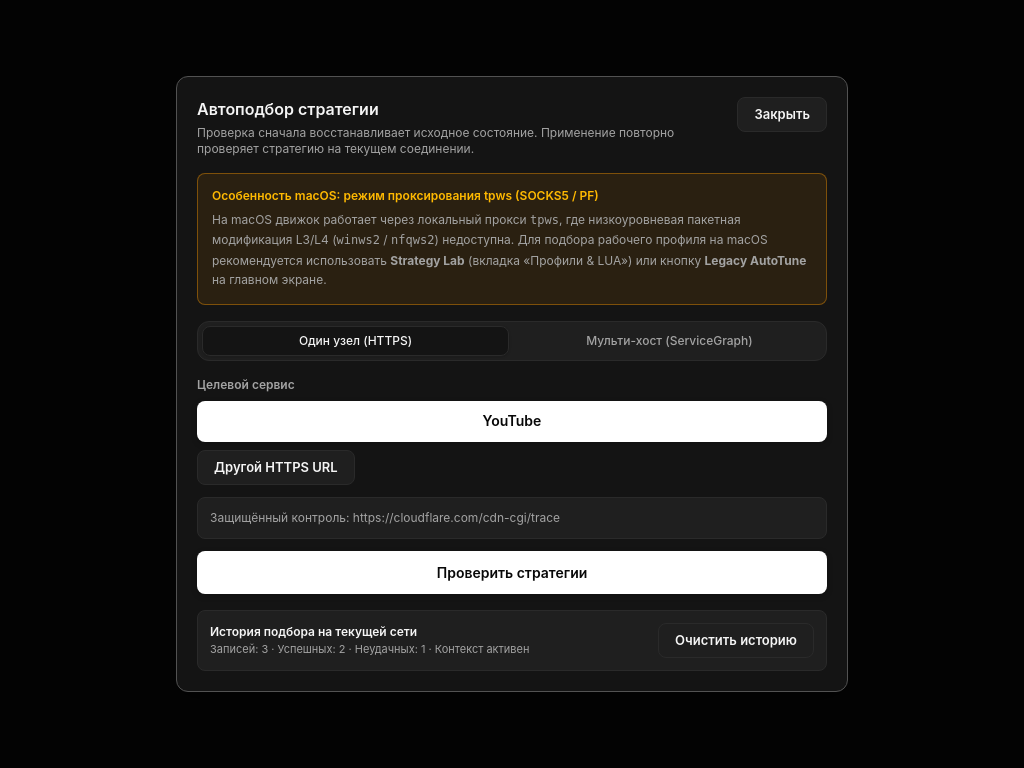
Test: primary AutoTune vNext modal › displays History Ledger stats, clears history, and renders macOS tpws guidance banner
The image size is (1024, 768).
Check: the text "Особенность macOS: режим проксирования tpws (SOCKS5 / PF)" is shown, box [212,188,599,203]
Check: the text "Strategy Lab" is shown, box [390,253,465,268]
Step 1. Click the button "Очистить историю" → click(736, 640), box [658,623,814,658]
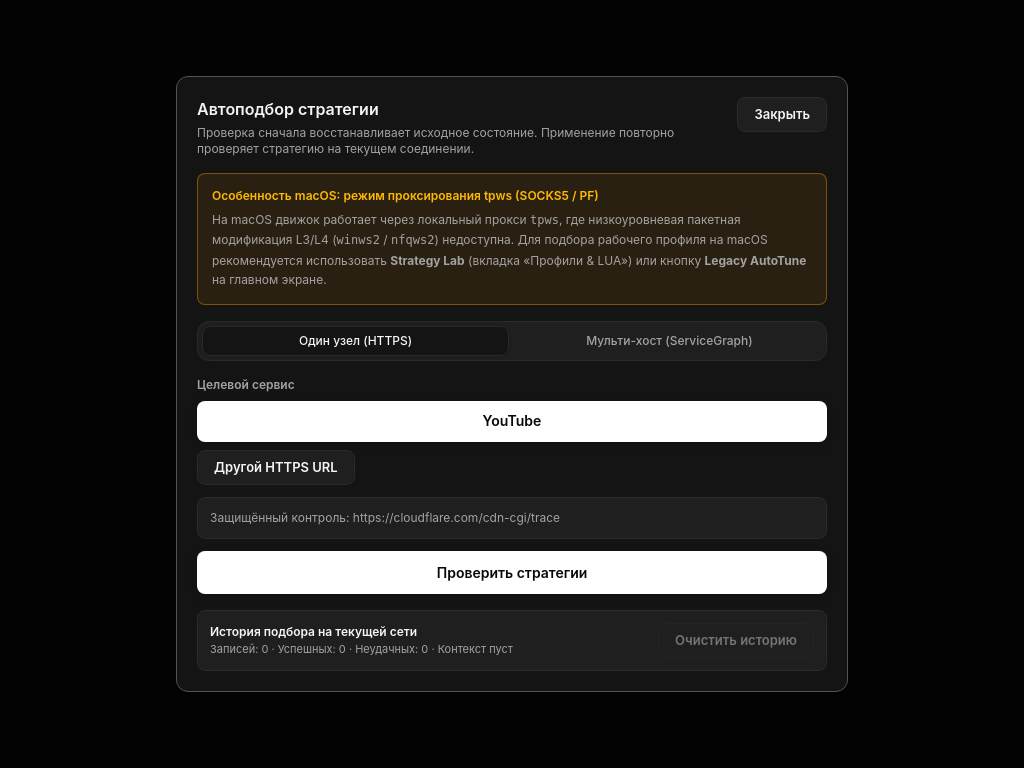
Check: the text "Записей: 0 · Успешных: 0 · Неудачных: 0 · Контекст пуст" is shown, box [210,642,513,657]
